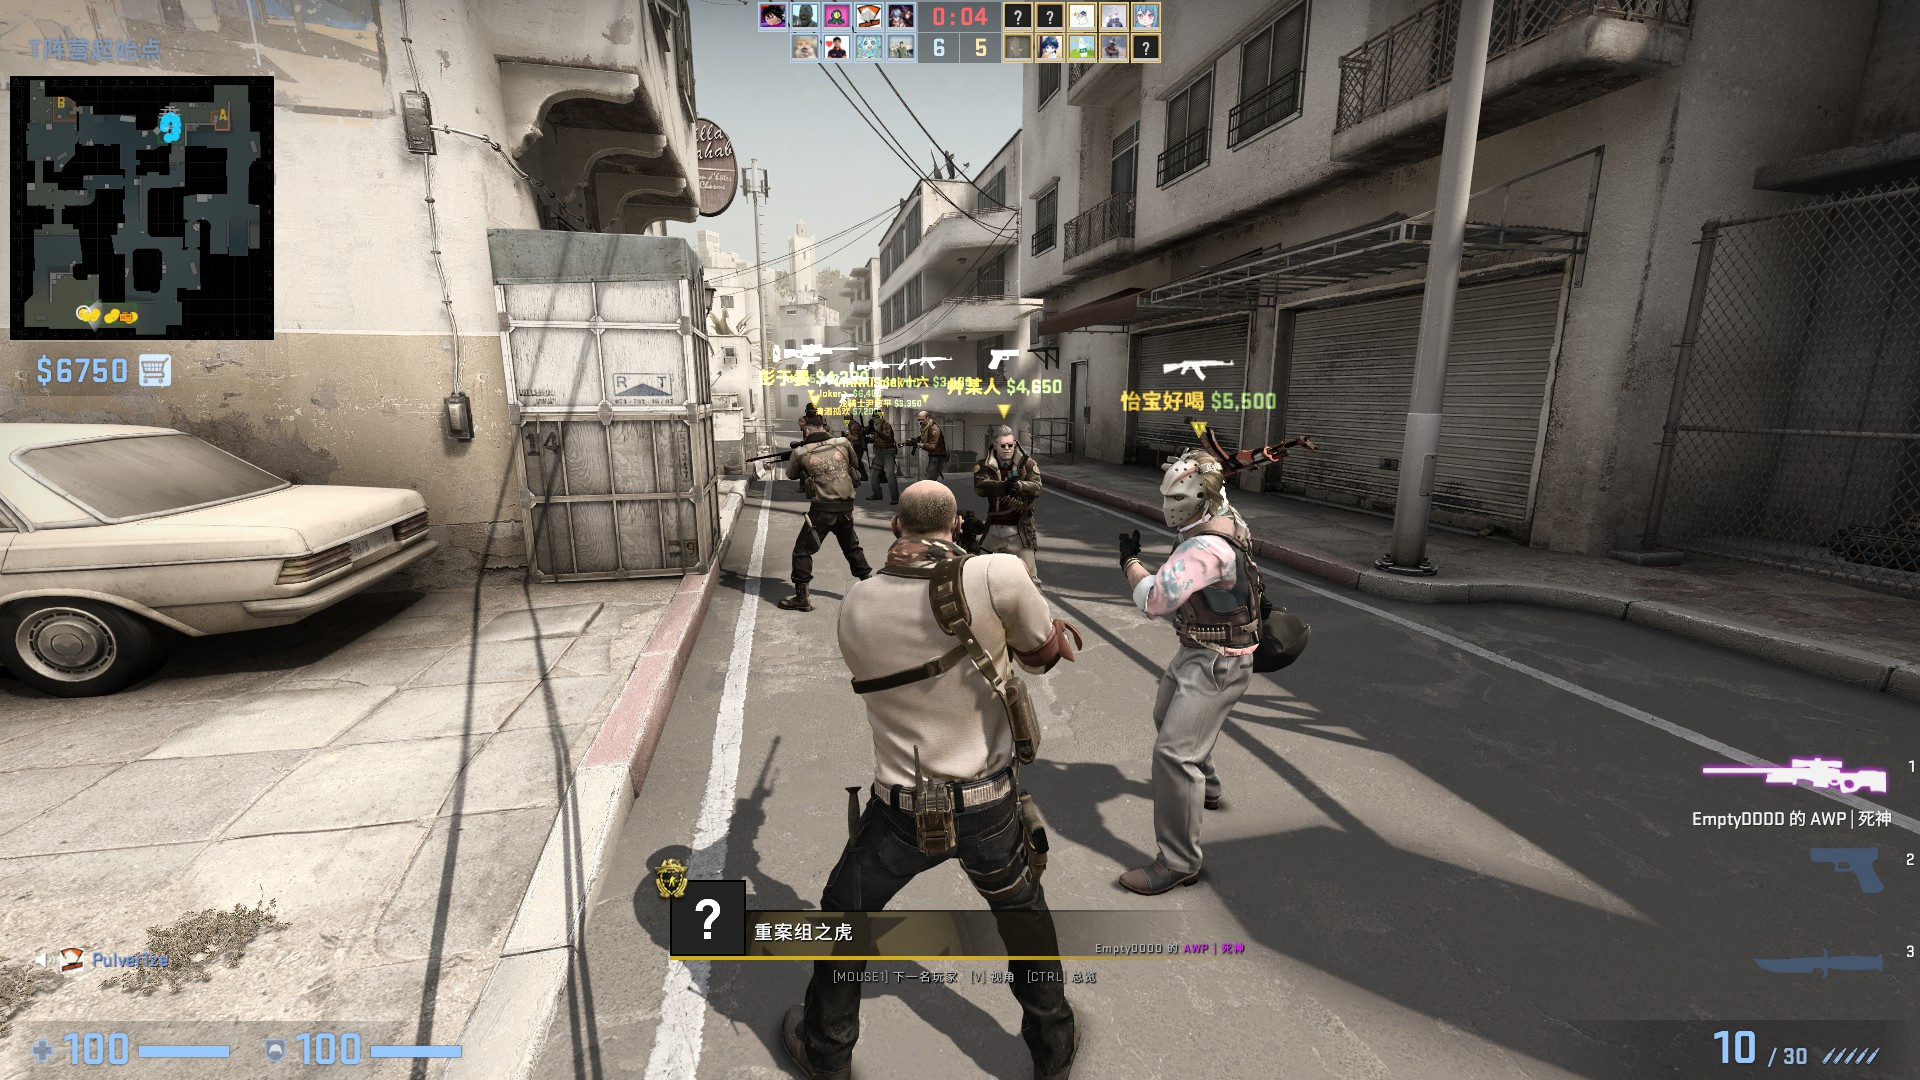head: (1159, 450, 1226, 529), (891, 478, 966, 541), (993, 426, 1016, 459), (802, 414, 824, 435), (917, 411, 931, 427), (871, 409, 884, 425), (843, 411, 855, 426), (804, 402, 818, 414)
